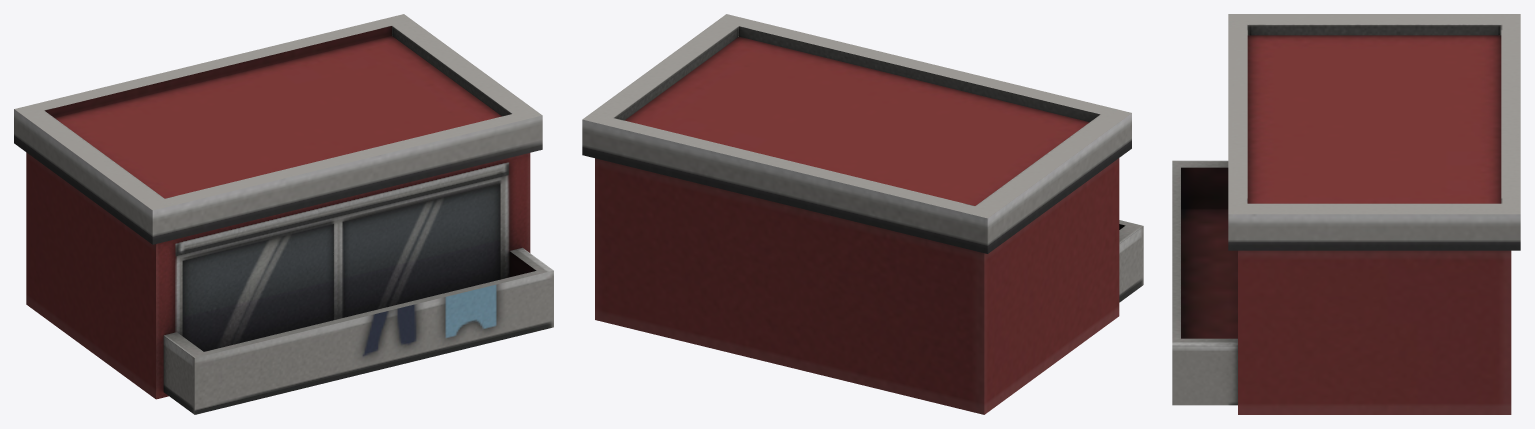
The model's file is House_Balcony.FBX.
The picture shows the model from 3 angles, left to right: view 1: azimuth 30°, elevation 25°; view 2: azimuth 150°, elevation 25°; view 3: azimuth 270°, elevation 25°; orthographic projection. The views are drawn at different scales.
Visible parts, largest first — view 1: Balcony; view 2: Balcony; view 3: Balcony.
Part boxes in pixels (<box>): Balcony: <box>14,14,553,414</box>; Balcony: <box>582,14,1143,414</box>; Balcony: <box>1172,14,1520,414</box>.
Size of the model in its own units: 521 by 248 by 382.
